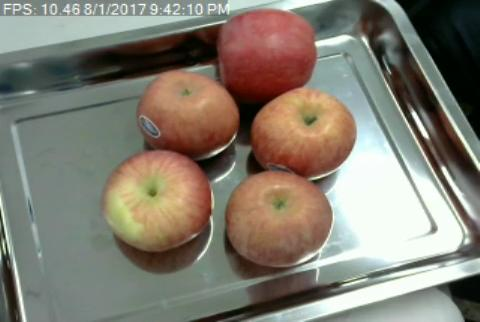apple: (101, 150, 213, 251), (225, 171, 334, 268), (137, 70, 237, 157), (255, 88, 357, 173), (218, 9, 316, 93)
